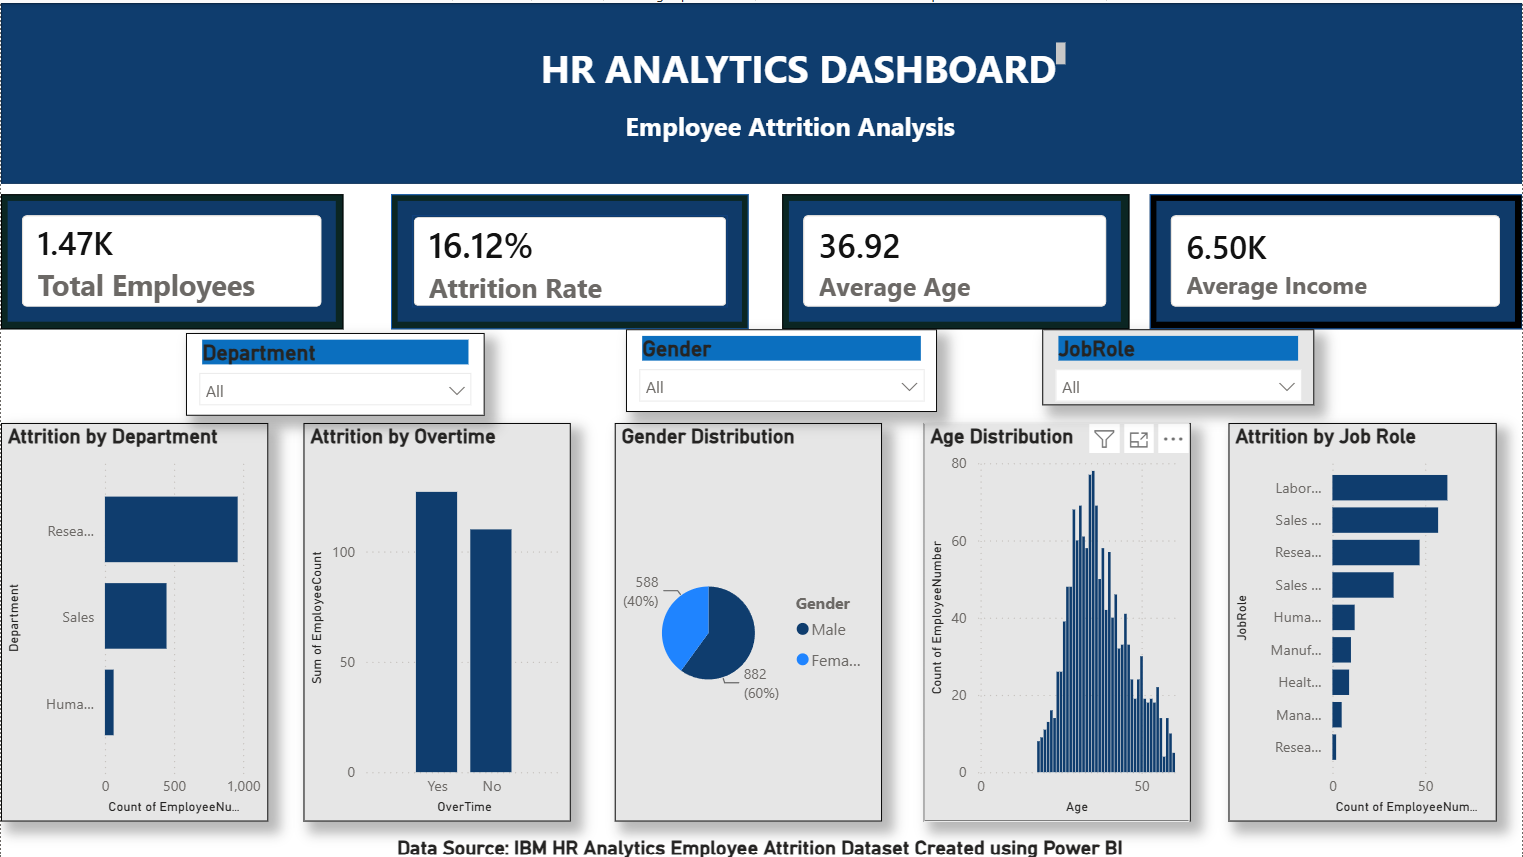

This screenshot's page, from the dashboard's own definition file:
{"tool":"powerbi","page":{"name":"Page 1","canvas":[1280,720],"ordinal":0},"visuals":[{"type":"clusteredBarChart","title":"Attrition by Department","fields":{"Category":["WA_Fn-UseC_-HR-Employee-Attrition.Department"],"Y":["CountNonNull(WA_Fn-UseC_-HR-Employee-Attrition.EmployeeNumber)"]},"box":[0,353.5,225,335],"z":0},{"type":"pieChart","title":"Gender Distribution","fields":{"Category":["WA_Fn-UseC_-HR-Employee-Attrition.Gender"],"Y":["Sum(WA_Fn-UseC_-HR-Employee-Attrition.EmployeeCount)"]},"box":[516.3,353.5,224.4,334.9],"z":1000},{"type":"clusteredColumnChart","title":"Attrition by Overtime","fields":{"Category":["WA_Fn-UseC_-HR-Employee-Attrition.OverTime"],"Y":["Sum(WA_Fn-UseC_-HR-Employee-Attrition.EmployeeCount)"]},"box":[254.7,353.5,224.4,334.9],"z":2000},{"type":"clusteredBarChart","title":"Attrition by Job Role","fields":{"Category":["WA_Fn-UseC_-HR-Employee-Attrition.JobRole"],"Y":["CountNonNull(WA_Fn-UseC_-HR-Employee-Attrition.EmployeeNumber)"]},"box":[1032.6,353.5,225.6,334.9],"z":3000},{"type":"clusteredColumnChart","title":"Age Distribution","fields":{"Category":["WA_Fn-UseC_-HR-Employee-Attrition.Age"],"Y":["CountNonNull(WA_Fn-UseC_-HR-Employee-Attrition.EmployeeNumber)"]},"box":[775.6,353.5,224.4,334.9],"z":4000},{"type":"cardVisual","fields":{"Data":["CountNonNull(WA_Fn-UseC_-HR-Employee-Attrition.EmployeeNumber)"]},"box":[0,160.5,288.4,114],"z":5000},{"type":"cardVisual","fields":{"Data":["WA_Fn-UseC_-HR-Employee-Attrition.Attrition Rate","WA_Fn-UseC_-HR-Employee-Attrition.Attrition Rate"]},"box":[327.9,160.5,301.2,114],"z":6000},{"type":"cardVisual","fields":{"Data":["Avg(WA_Fn-UseC_-HR-Employee-Attrition.Age)"]},"box":[657,160.5,291.9,114],"z":7000},{"type":"cardVisual","fields":{"Data":["Avg(WA_Fn-UseC_-HR-Employee-Attrition.MonthlyIncome)"]},"box":[966.3,160.5,314,114],"z":8000},{"type":"shape","box":[0,0,1280.2,152.3],"z":9000},{"type":"textbox","box":[355.8,27.9,545.4,47.7],"z":10000},{"type":"textbox","box":[384.9,83.7,564,44.2],"z":11000},{"type":"slicer","fields":{"Values":["WA_Fn-UseC_-HR-Employee-Attrition.Department"]},"box":[155.8,277.9,251.2,69.8],"z":12000},{"type":"slicer","fields":{"Values":["WA_Fn-UseC_-HR-Employee-Attrition.Gender"]},"box":[525.6,274.4,261.6,69.8],"z":13000},{"type":"slicer","fields":{"Values":["WA_Fn-UseC_-HR-Employee-Attrition.JobRole"]},"box":[875.6,274.4,229.1,64],"z":14000},{"type":"shape","title":"Data Source: IBM HR Analytics Employee Attrition Dataset Created using Power BI","box":[333.7,700,677.9,19.8],"z":14001}]}

Visuals, with their boxes in screenshot pixels (x1, y1, x2, y2), scaled from the page's 1280x720 canvas onto the 1523x857 screenshot:
"Attrition by Department" clusteredBarChart: {"left": 0, "top": 421, "right": 268, "bottom": 820}
"Gender Distribution" pieChart: {"left": 614, "top": 421, "right": 881, "bottom": 819}
"Attrition by Overtime" clusteredColumnChart: {"left": 303, "top": 421, "right": 570, "bottom": 819}
"Attrition by Job Role" clusteredBarChart: {"left": 1229, "top": 421, "right": 1497, "bottom": 819}
"Age Distribution" clusteredColumnChart: {"left": 923, "top": 421, "right": 1190, "bottom": 819}
cardVisual - CountNonNull(WA_Fn-UseC_-HR-Employee-Attrition.EmployeeNumber): {"left": 0, "top": 191, "right": 343, "bottom": 327}
cardVisual - WA_Fn-UseC_-HR-Employee-Attrition.Attrition Rate x WA_Fn-UseC_-HR-Employee-Attrition.Attrition Rate: {"left": 390, "top": 191, "right": 749, "bottom": 327}
cardVisual - Avg(WA_Fn-UseC_-HR-Employee-Attrition.Age): {"left": 782, "top": 191, "right": 1129, "bottom": 327}
cardVisual - Avg(WA_Fn-UseC_-HR-Employee-Attrition.MonthlyIncome): {"left": 1150, "top": 191, "right": 1522, "bottom": 327}
shape: {"left": 0, "top": 0, "right": 1522, "bottom": 181}
textbox: {"left": 423, "top": 33, "right": 1072, "bottom": 90}
textbox: {"left": 458, "top": 100, "right": 1129, "bottom": 152}
slicer - WA_Fn-UseC_-HR-Employee-Attrition.Department: {"left": 185, "top": 331, "right": 484, "bottom": 414}
slicer - WA_Fn-UseC_-HR-Employee-Attrition.Gender: {"left": 625, "top": 327, "right": 937, "bottom": 410}
slicer - WA_Fn-UseC_-HR-Employee-Attrition.JobRole: {"left": 1042, "top": 327, "right": 1314, "bottom": 403}
"Data Source: IBM HR Analytics Employee Attrition Dataset Created using Power BI" shape: {"left": 397, "top": 833, "right": 1204, "bottom": 856}
